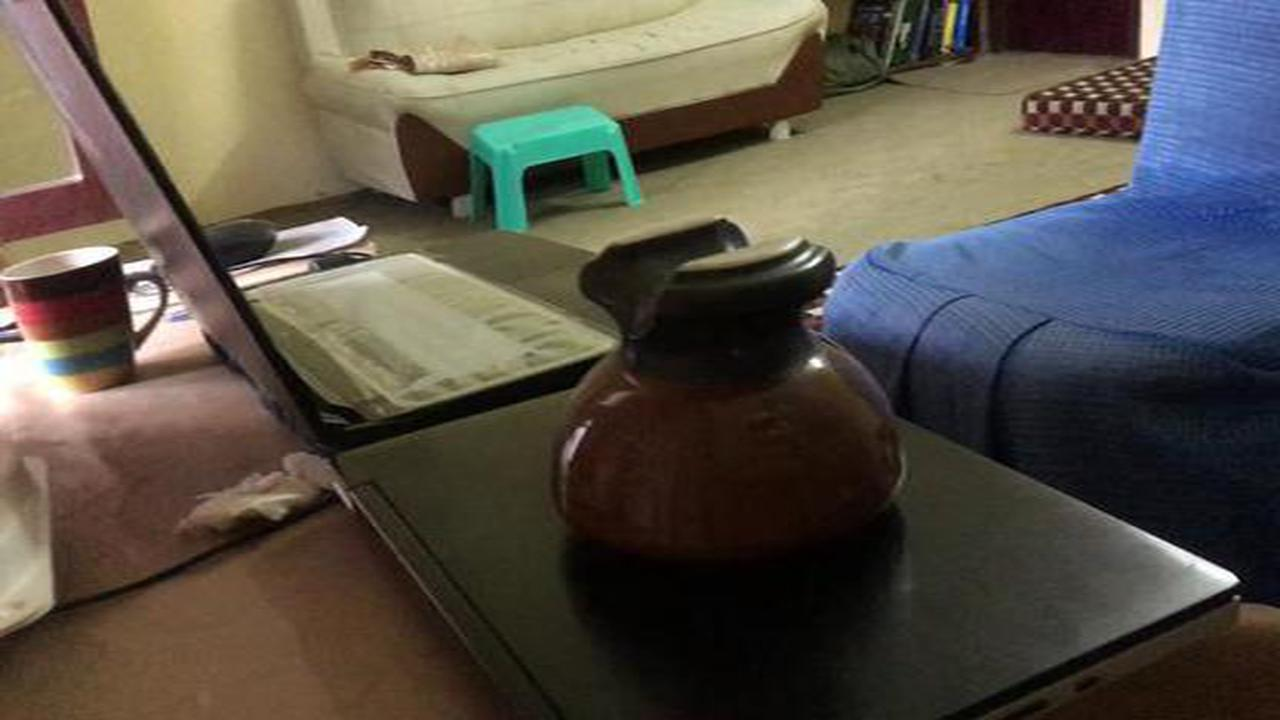insulator_pin: (539, 208, 927, 591)
